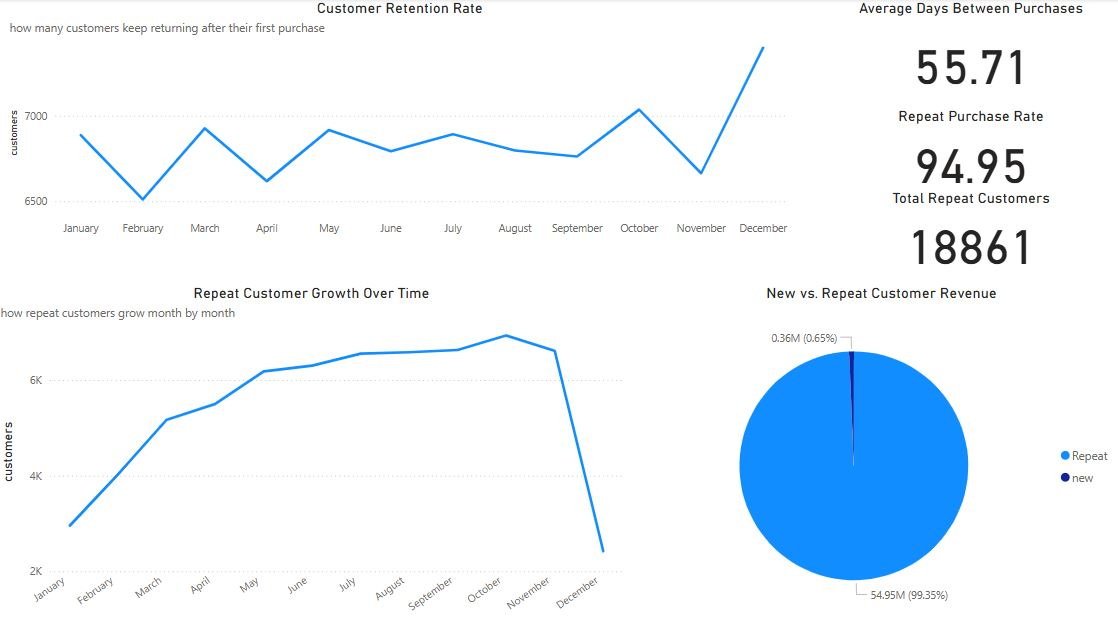

Layout of this report page (visuals, bound fields, positions):
{"tool":"powerbi","page":{"name":"Customer retension","canvas":[1280,720],"ordinal":3},"visuals":[{"type":"lineChart","title":"Customer Retention Rate","fields":{"Category":["customerretension.active_month.Variation.Date Hierarchy.Year","customerretension.active_month.Variation.Date Hierarchy.Month"],"Y":["Sum(customerretension.SUM(retained_customers))"]},"box":[10,0,900,280],"z":0},{"type":"card","title":"Average Days Between Purchases","fields":{"Values":["Sum(avg_days_between_pur.avg_days_between_purchases)"]},"box":[941,0,339.5,123],"z":1000},{"type":"pieChart","title":"New vs. Repeat Customer Revenue","fields":{"Category":["repeatvsnew.repeatcus"],"Y":["Sum(repeatvsnew.ROUND(SUM(total),2))"]},"box":[737.1,324.7,543.4,395.3],"z":2000},{"type":"lineChart","title":"Repeat Customer Growth Over Time","fields":{"Category":["repeatcustomerrateovertime.month.Variation.Date Hierarchy.Year","repeatcustomerrateovertime.month.Variation.Date Hierarchy.Quarter","repeatcustomerrateovertime.month.Variation.Date Hierarchy.Month"],"Y":["Sum(repeatcustomerrateovertime.repeat_customers)"]},"box":[0,324.7,718.9,395.3],"z":3000},{"type":"card","title":"Repeat Purchase Rate","fields":{"Values":["Sum(retension.repeat_percentage)"]},"box":[941,123,339.5,102.5],"z":4000},{"type":"card","title":"Total Repeat Customers","fields":{"Values":["Sum(retension.repeat_customers)"]},"box":[941,216.5,339.5,100.3],"z":5000}]}

Visuals, with their boxes in screenshot pixels (x1, y1, x2, y2), scaled from the page's 1280x720 canvas onto the 1118x626 screenshot:
"Customer Retention Rate" lineChart: box(9, 0, 795, 243)
"Average Days Between Purchases" card: box(822, 0, 1117, 107)
"New vs. Repeat Customer Revenue" pieChart: box(644, 282, 1117, 625)
"Repeat Customer Growth Over Time" lineChart: box(0, 282, 628, 625)
"Repeat Purchase Rate" card: box(822, 107, 1117, 196)
"Total Repeat Customers" card: box(822, 188, 1117, 275)
